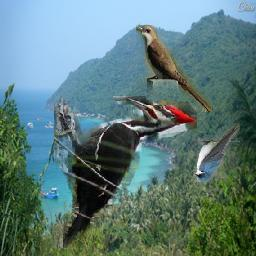Cuckoo: (136, 26, 212, 113)
Swallow: (194, 124, 241, 183)
Woodpecker: (55, 96, 198, 248)
